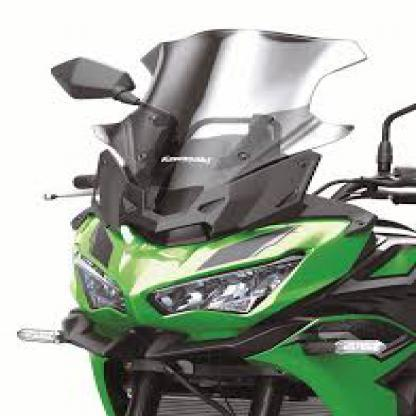Motorcycle: (10, 20, 414, 415)
